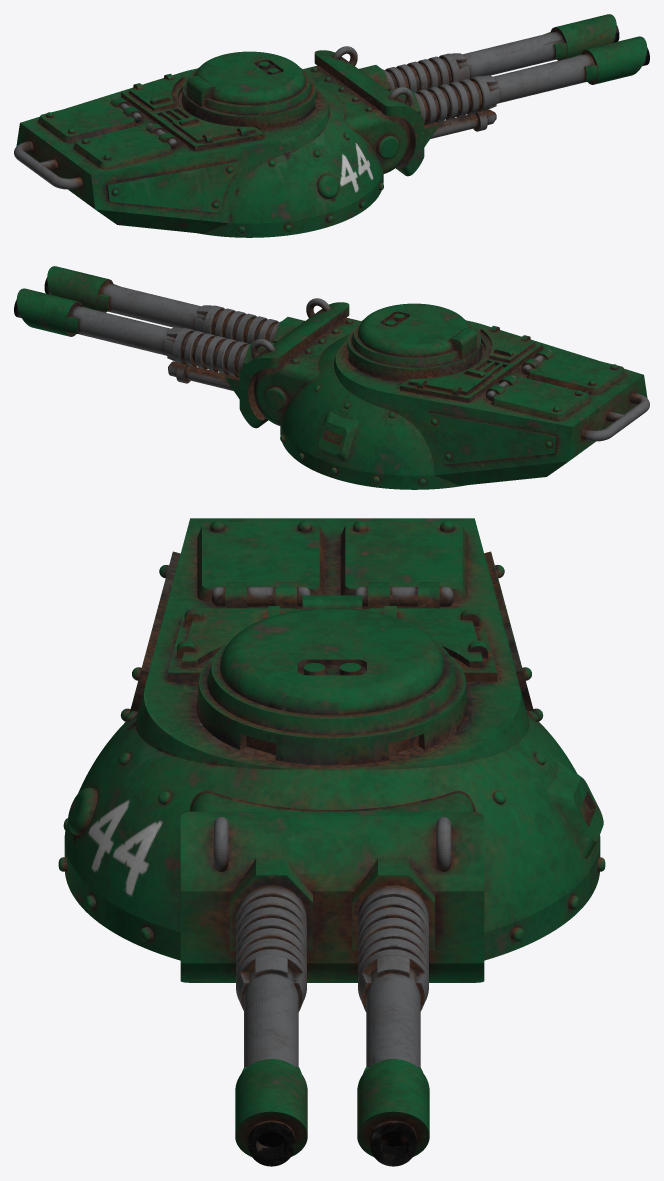
3 renders of one model, top to bottom at view 1: azimuth 30°, elevation 25°; view 2: azimuth 150°, elevation 25°; view 3: azimuth 270°, elevation 25°, orthographic. The views are drawn at different scales.
Visible parts, largest first — view 1: aniihilatorSTL; view 2: aniihilatorSTL; view 3: aniihilatorSTL.
Part boxes in pixels (x1,y1,x2,y2): aniihilatorSTL: [14, 14, 649, 237]; aniihilatorSTL: [14, 266, 649, 489]; aniihilatorSTL: [58, 518, 605, 1166].
Size of the model in its own units: 10137 by 1808 by 4030.
1 material, 1 textured.
